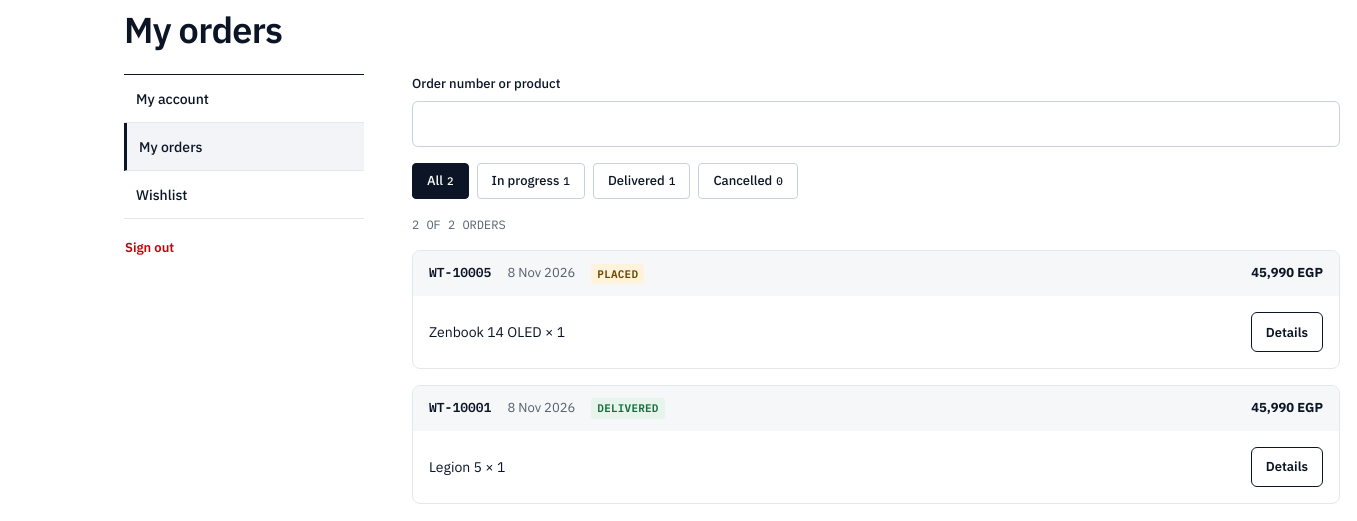
Test case: filters by status and keeps it in the URL
This screenshot has width=1357, height=521.
Click the radio button labelled "Delivered1" at (642, 181), box left=593, top=163, right=690, bottom=199
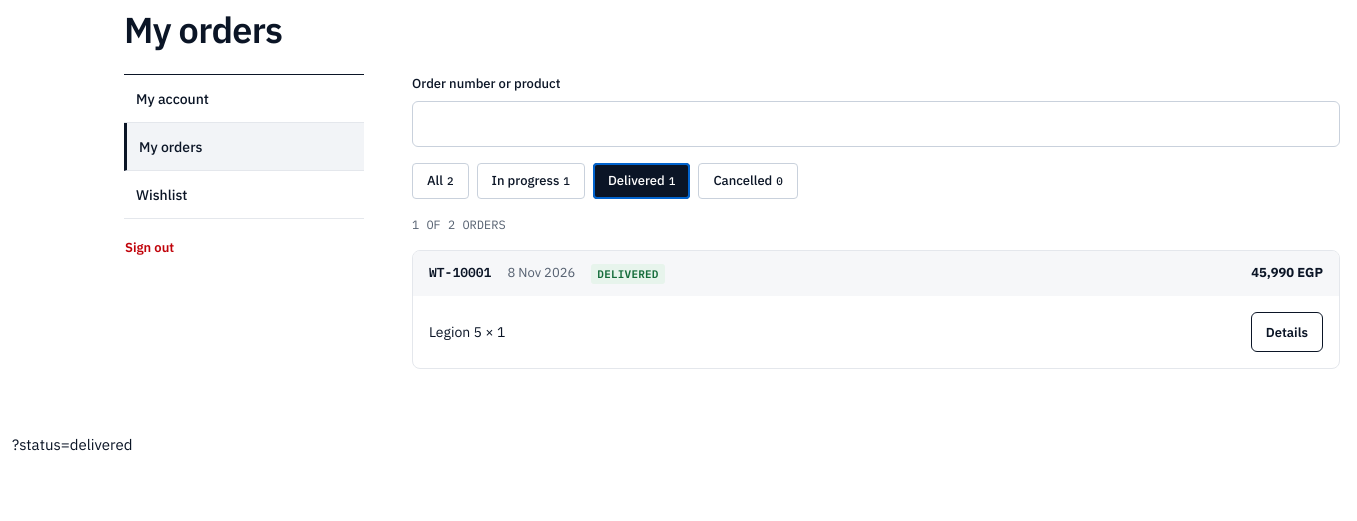
Now the text "?status=delivered" is shown, box left=12, top=435, right=132, bottom=454
